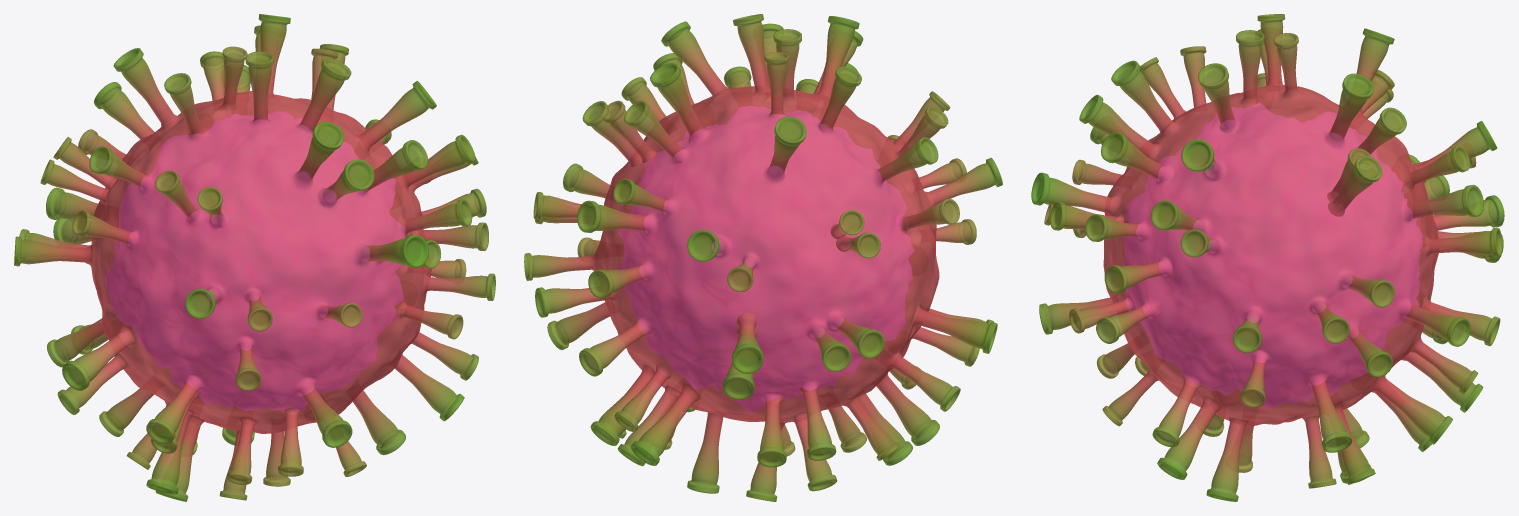
The model's file is virus_particle.glb.
The picture shows the model from 3 angles, left to right: view 1: azimuth 30°, elevation 25°; view 2: azimuth 150°, elevation 25°; view 3: azimuth 270°, elevation 25°; orthographic projection.
Parts seen in each view (by area): view 1: Virus Envelope, Inner Sphere; view 2: Virus Envelope, Inner Sphere; view 3: Virus Envelope, Inner Sphere.
Part boxes in pixels (box(x1,y1,x2,y2)): Virus Envelope: box(14, 14, 495, 501); Inner Sphere: box(105, 111, 404, 410); Virus Envelope: box(524, 14, 1002, 501); Inner Sphere: box(618, 106, 914, 413); Virus Envelope: box(1031, 14, 1504, 501); Inner Sphere: box(1123, 103, 1422, 408).
Bounding box in the file's own units: 40.61 × 39.56 × 39.52.
2 materials, 1 textured.
